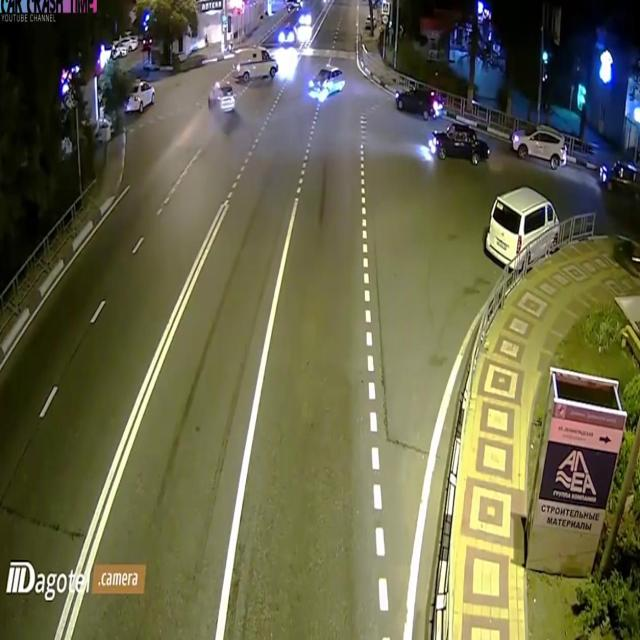non_accident: (390, 80, 494, 170)
